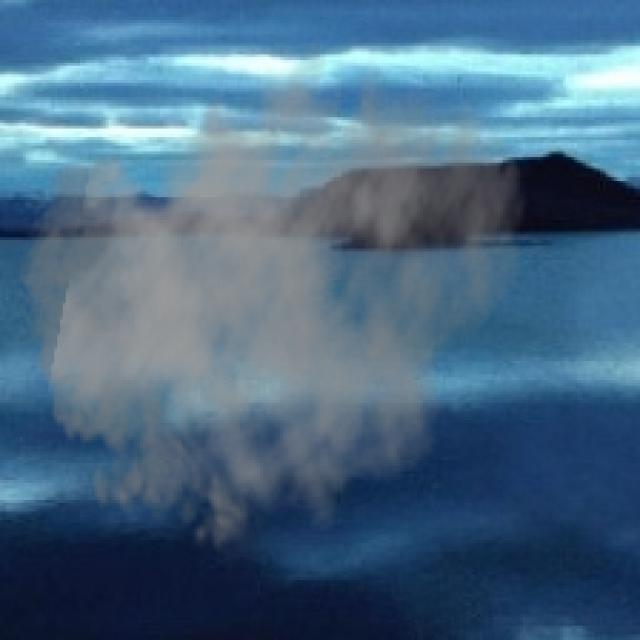Smoke: (11, 17, 528, 572)
